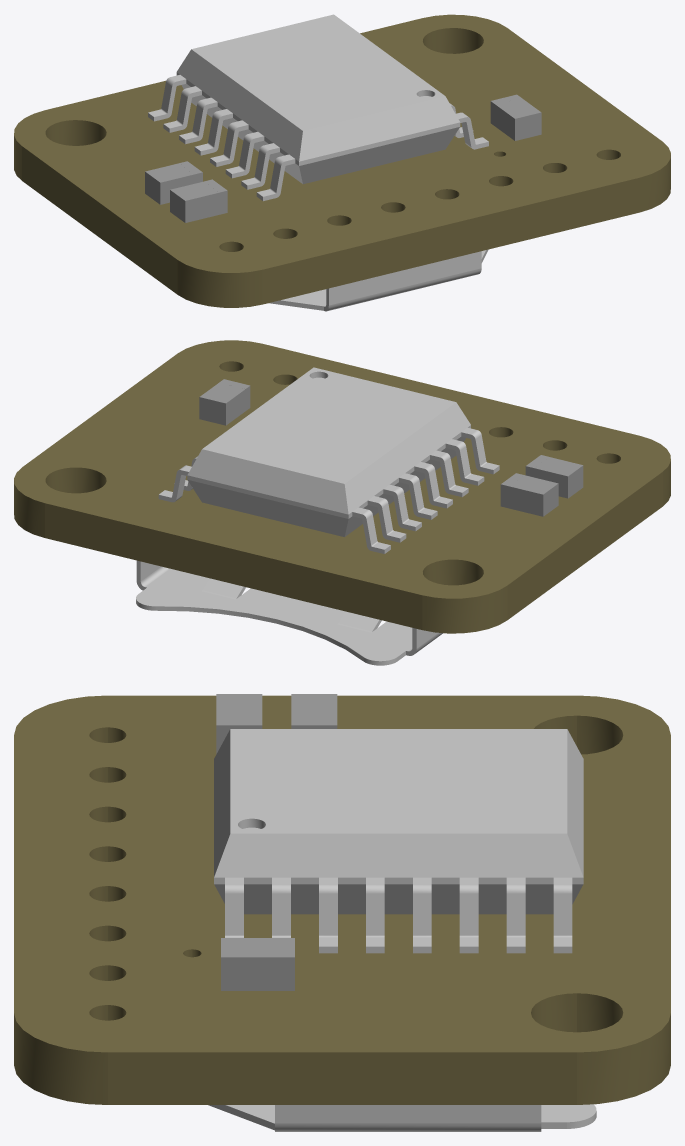
Rendered from ada-3013.glb.
3 renders of one model, top to bottom at view 1: azimuth 30°, elevation 25°; view 2: azimuth 150°, elevation 25°; view 3: azimuth 270°, elevation 25°, orthographic. The views are drawn at different scales.
Parts seen in each view (by area): view 1: 0.16666666666666666_0.16666666666666666_0.08333333333333333_, 0.5833333333333334_0.5833333333333334_0.5833333333333334_0.8, 0.3333333333333333_0.3333333333333333_0.3333333333333333_0; view 2: 0.16666666666666666_0.16666666666666666_0.08333333333333333_, 0.5833333333333334_0.5833333333333334_0.5833333333333334_0.8, 0.3333333333333333_0.3333333333333333_0.3333333333333333_0; view 3: 0.16666666666666666_0.16666666666666666_0.08333333333333333_, 0.5833333333333334_0.5833333333333334_0.5833333333333334_0.8, 0.3333333333333333_0.3333333333333333_0.3333333333333333_0.
Boxes of the visible parts, box(x1,y1,x2,y2) form: 0.16666666666666666_0.16666666666666666_0.08333333333333333_: box(14, 14, 670, 307); 0.5833333333333334_0.5833333333333334_0.5833333333333334_0.8: box(148, 14, 488, 311); 0.3333333333333333_0.3333333333333333_0.3333333333333333_0: box(145, 94, 541, 222); 0.16666666666666666_0.16666666666666666_0.08333333333333333_: box(14, 340, 670, 633); 0.5833333333333334_0.5833333333333334_0.5833333333333334_0.8: box(136, 367, 499, 665); 0.3333333333333333_0.3333333333333333_0.3333333333333333_0: box(199, 379, 583, 516); 0.16666666666666666_0.16666666666666666_0.08333333333333333_: box(14, 695, 670, 1104); 0.5833333333333334_0.5833333333333334_0.5833333333333334_0.8: box(208, 729, 596, 1131); 0.3333333333333333_0.3333333333333333_0.3333333333333333_0: box(216, 694, 337, 990).
Size of the model in its own units: 2.29 by 0.742 by 1.78.
